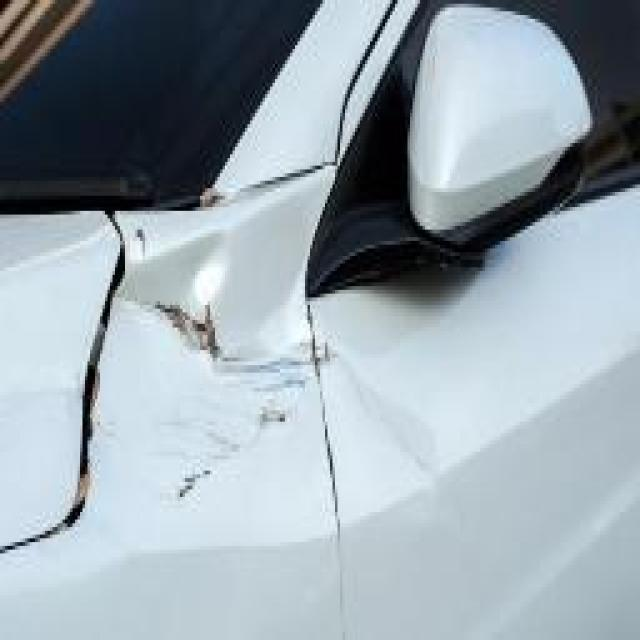Fender: (0, 211, 345, 640)
